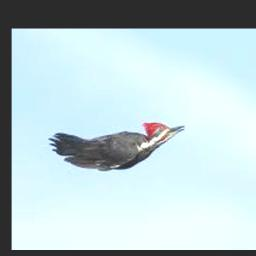Woodpecker: (47, 122, 184, 170)
